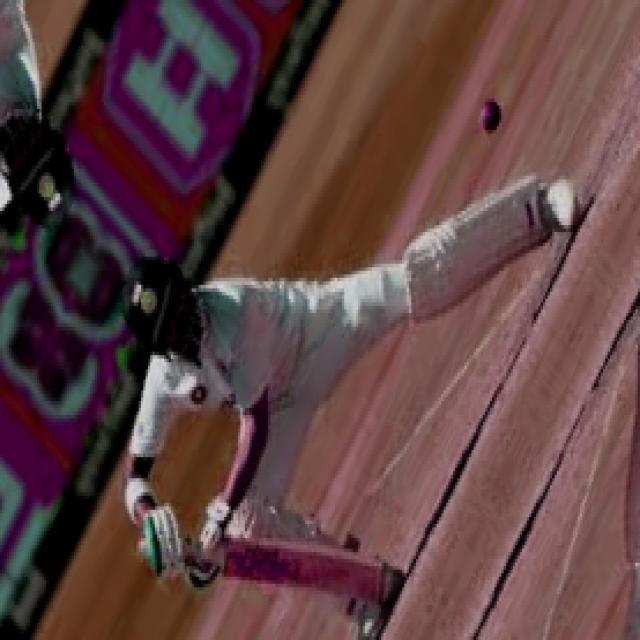toe: (348, 554, 387, 604)
